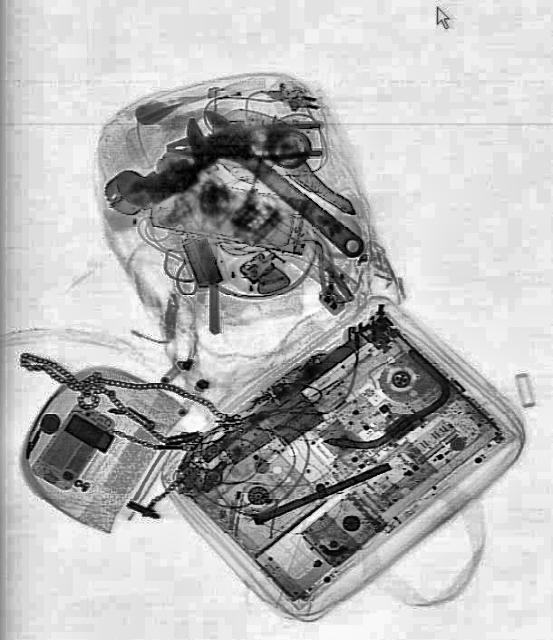Pliers: (167, 121, 323, 163)
Wrench: (174, 98, 376, 272)
